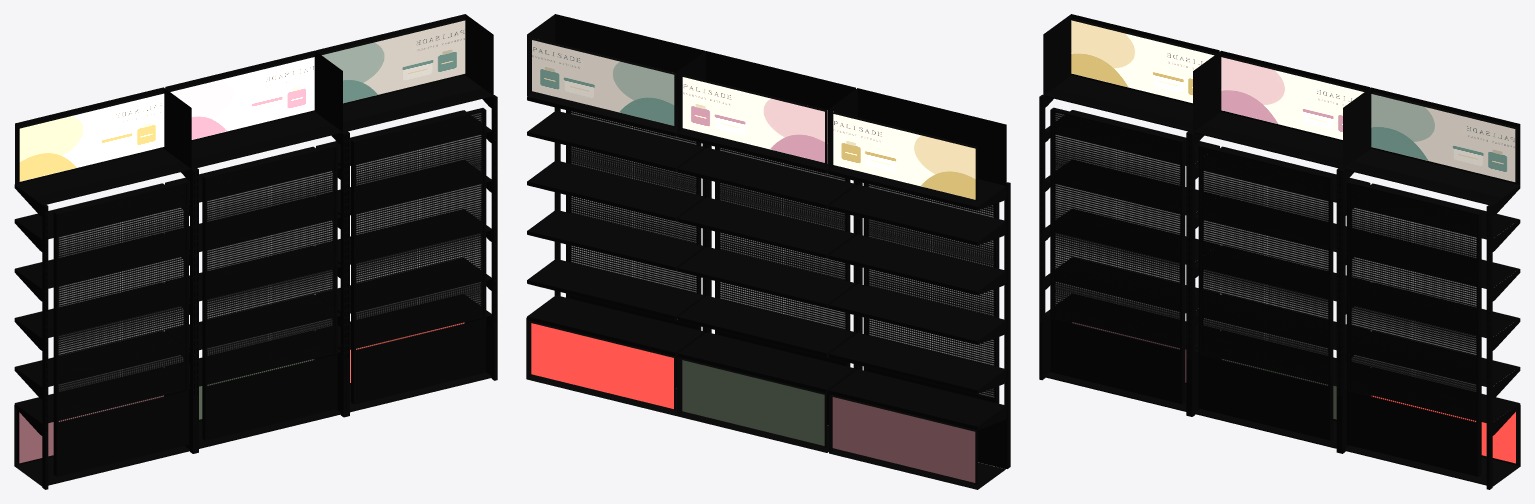
The model's file is store_empty_cosmetics_shelf.glb.
The picture shows the model from 3 angles, left to right: view 1: azimuth 30°, elevation 25°; view 2: azimuth 150°, elevation 25°; view 3: azimuth 330°, elevation 25°; orthographic projection.
Visible parts, largest first — view 1: Object_5, Object_11, Object_177, Object_174, Object_171; view 2: Object_11, Object_5, Object_15, Object_174, Object_177, Object_186, Object_171; view 3: Object_5, Object_11, Object_171, Object_177, Object_174, Object_186.
Boxes of the visible parts, left/top/right/bottom form: Object_5: left=53, top=108, right=486, bottom=476; Object_11: left=14, top=14, right=497, bottom=489; Object_177: left=19, top=93, right=164, bottom=181; Object_174: left=170, top=57, right=314, bottom=139; Object_171: left=322, top=20, right=465, bottom=103; Object_11: left=526, top=14, right=1010, bottom=489; Object_5: left=566, top=110, right=999, bottom=403; Object_15: left=527, top=97, right=976, bottom=430; Object_174: left=682, top=77, right=827, bottom=163; Object_177: left=833, top=111, right=975, bottom=199; Object_186: left=531, top=323, right=673, bottom=408; Object_171: left=532, top=40, right=674, bottom=125; Object_5: left=1050, top=107, right=1481, bottom=476; Object_11: left=1039, top=14, right=1520, bottom=489; Object_171: left=1371, top=94, right=1515, bottom=181; Object_177: left=1071, top=20, right=1214, bottom=103; Object_174: left=1221, top=57, right=1364, bottom=139; Object_186: left=1371, top=395, right=1515, bottom=463.
Bounding box in the file's own units: 15.64 × 11.36 × 1.96.
7 materials, 7 textured.
